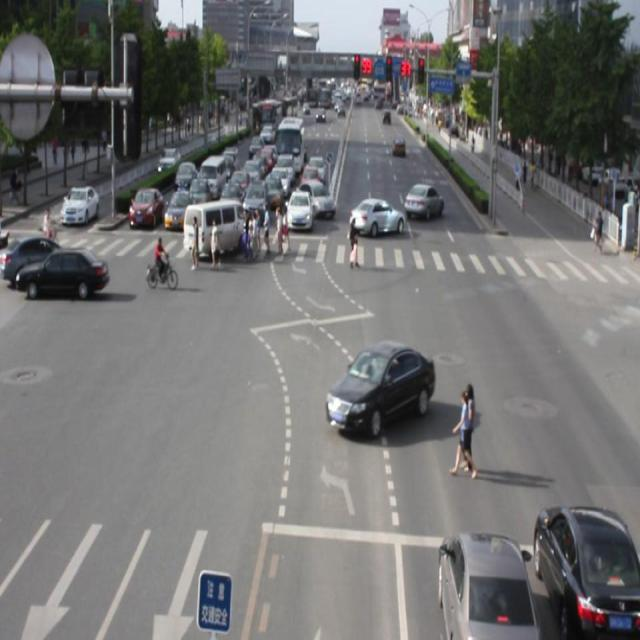car: (534, 498, 640, 640), (436, 527, 537, 640), (325, 340, 436, 434)
truck: (184, 200, 251, 256)
